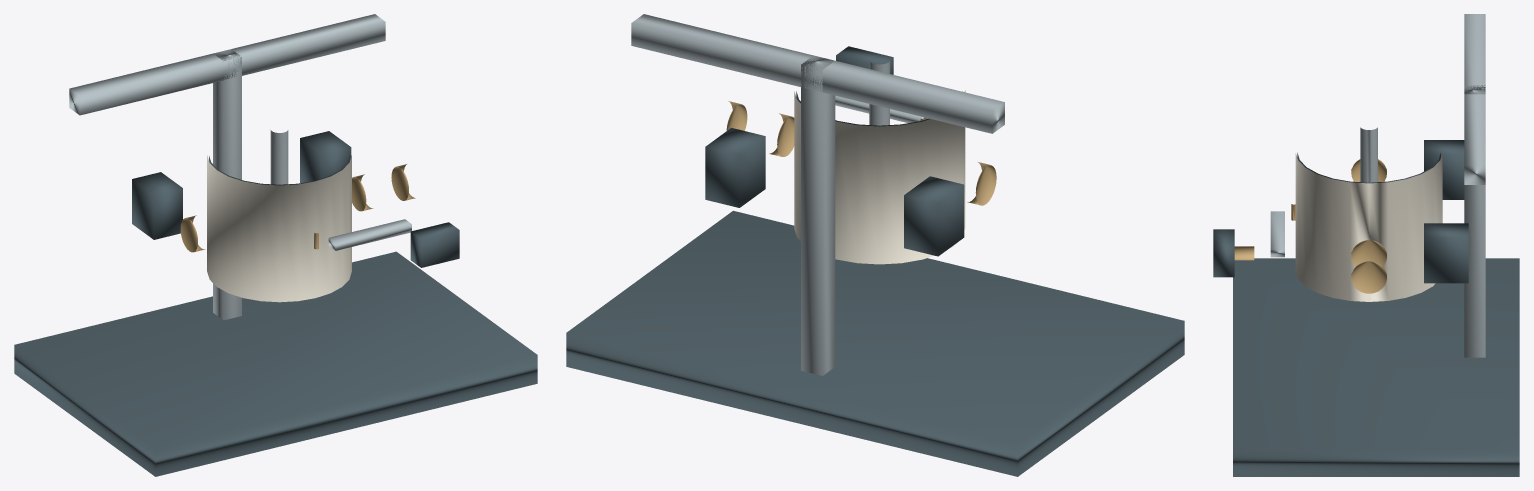
Rendered from kymograph.glb.
The picture shows the model from 3 angles, left to right: view 1: azimuth 30°, elevation 25°; view 2: azimuth 150°, elevation 25°; view 3: azimuth 270°, elevation 25°; orthographic projection. The views are drawn at different scales.
Parts seen in each view (by area): view 1: Base, PaperSurface, TopBridge, Bearing block (×2), RearFrame, Stylus carriage, Stylus arm, DrumAxle; view 2: Base, PaperSurface, TopBridge, RearFrame, Bearing block (×2), Bearing boss (×2), Stylus carriage, Stylus arm; view 3: Base, PaperSurface, Bearing block (×2), RearFrame, TopBridge, Bearing boss (×2), Stylus carriage, DrumAxle, Adjustment knob, Stylus arm.
Part boxes in pixels (box(x1,y1,x2,y2)): Base: box(14, 251, 537, 476); PaperSurface: box(207, 155, 351, 302); TopBridge: box(69, 14, 385, 115); Bearing block (×2): box(132, 131, 351, 239); RearFrame: box(213, 49, 241, 320); Stylus carriage: box(410, 222, 459, 267); Stylus arm: box(328, 219, 411, 250); DrumAxle: box(270, 130, 288, 184); Base: box(566, 210, 1184, 476); PaperSurface: box(794, 90, 965, 264); TopBridge: box(631, 14, 1004, 133); RearFrame: box(801, 55, 835, 375); Bearing block (×2): box(705, 128, 964, 256); Bearing boss (×2): box(769, 113, 996, 205); Stylus carriage: box(836, 46, 893, 74); Stylus arm: box(835, 95, 927, 122); Base: box(1233, 258, 1519, 476); PaperSurface: box(1295, 153, 1442, 301); Bearing block (×2): box(1424, 140, 1468, 283); RearFrame: box(1464, 85, 1485, 357); TopBridge: box(1464, 14, 1485, 184); Bearing boss (×2): box(1351, 159, 1386, 266); Stylus carriage: box(1213, 229, 1234, 277); DrumAxle: box(1360, 127, 1377, 182); Adjustment knob: box(1351, 261, 1386, 293); Stylus arm: box(1270, 211, 1284, 257).
Bounding box in the file's own units: 0.25 × 0.18 × 0.171.
